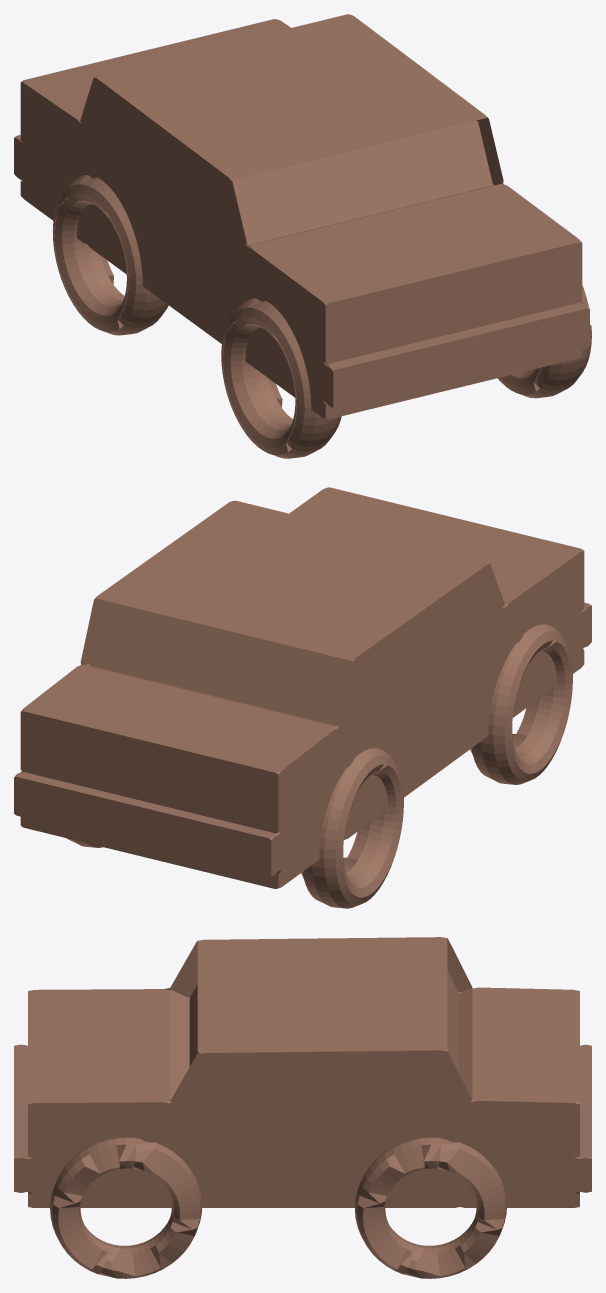
File: oldCar.fbx
3 renders of one model, top to bottom at view 1: azimuth 30°, elevation 25°; view 2: azimuth 150°, elevation 25°; view 3: azimuth 270°, elevation 25°, orthographic. The views are drawn at different scales.
Parts seen in each view (by area): view 1: car; view 2: car; view 3: car.
Part boxes in pixels (x1=…): car: x1=14, y1=14, x2=591, y2=458; car: x1=14, y1=487, x2=591, y2=908; car: x1=14, y1=937, x2=591, y2=1278.
Bounding box in the file's own units: 884 × 703 × 1637.
